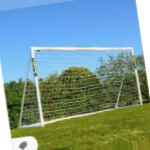goals: (13, 42, 145, 126)
